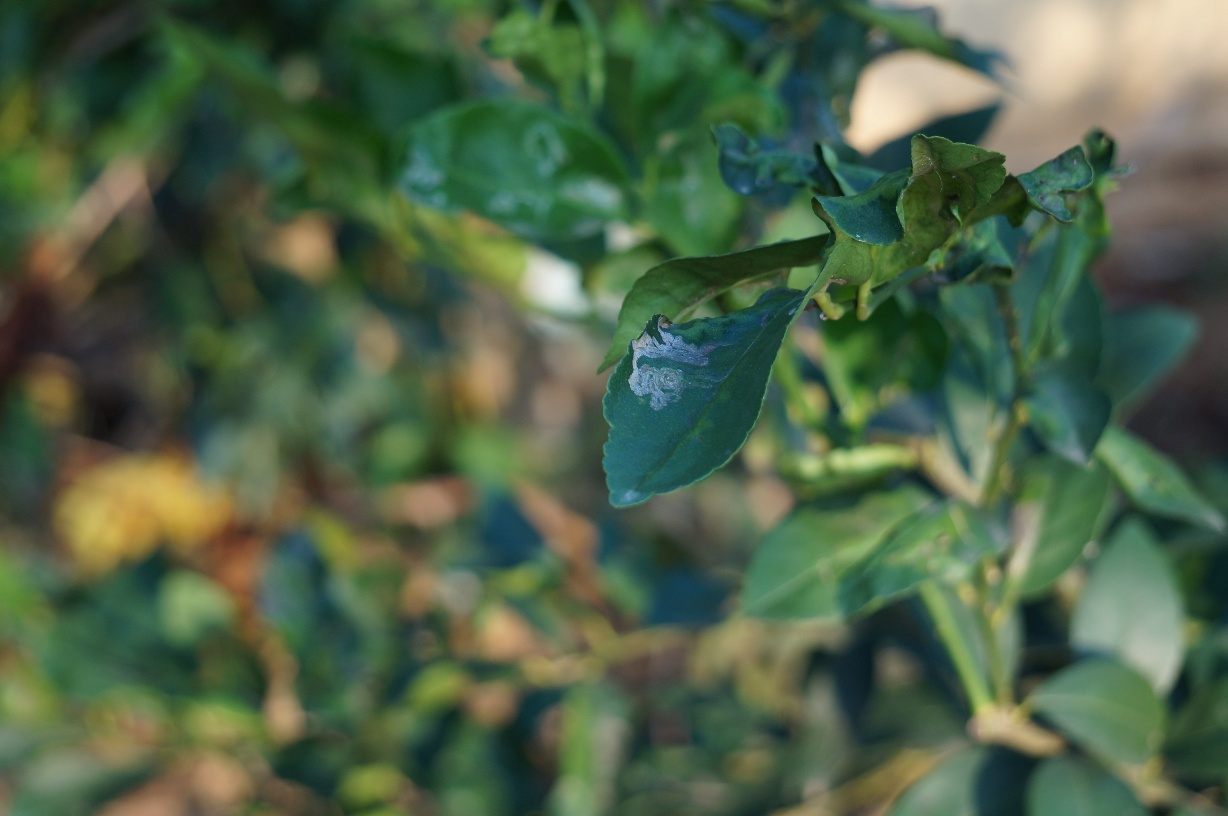damage: (805, 130, 1011, 297), (621, 312, 721, 408)
